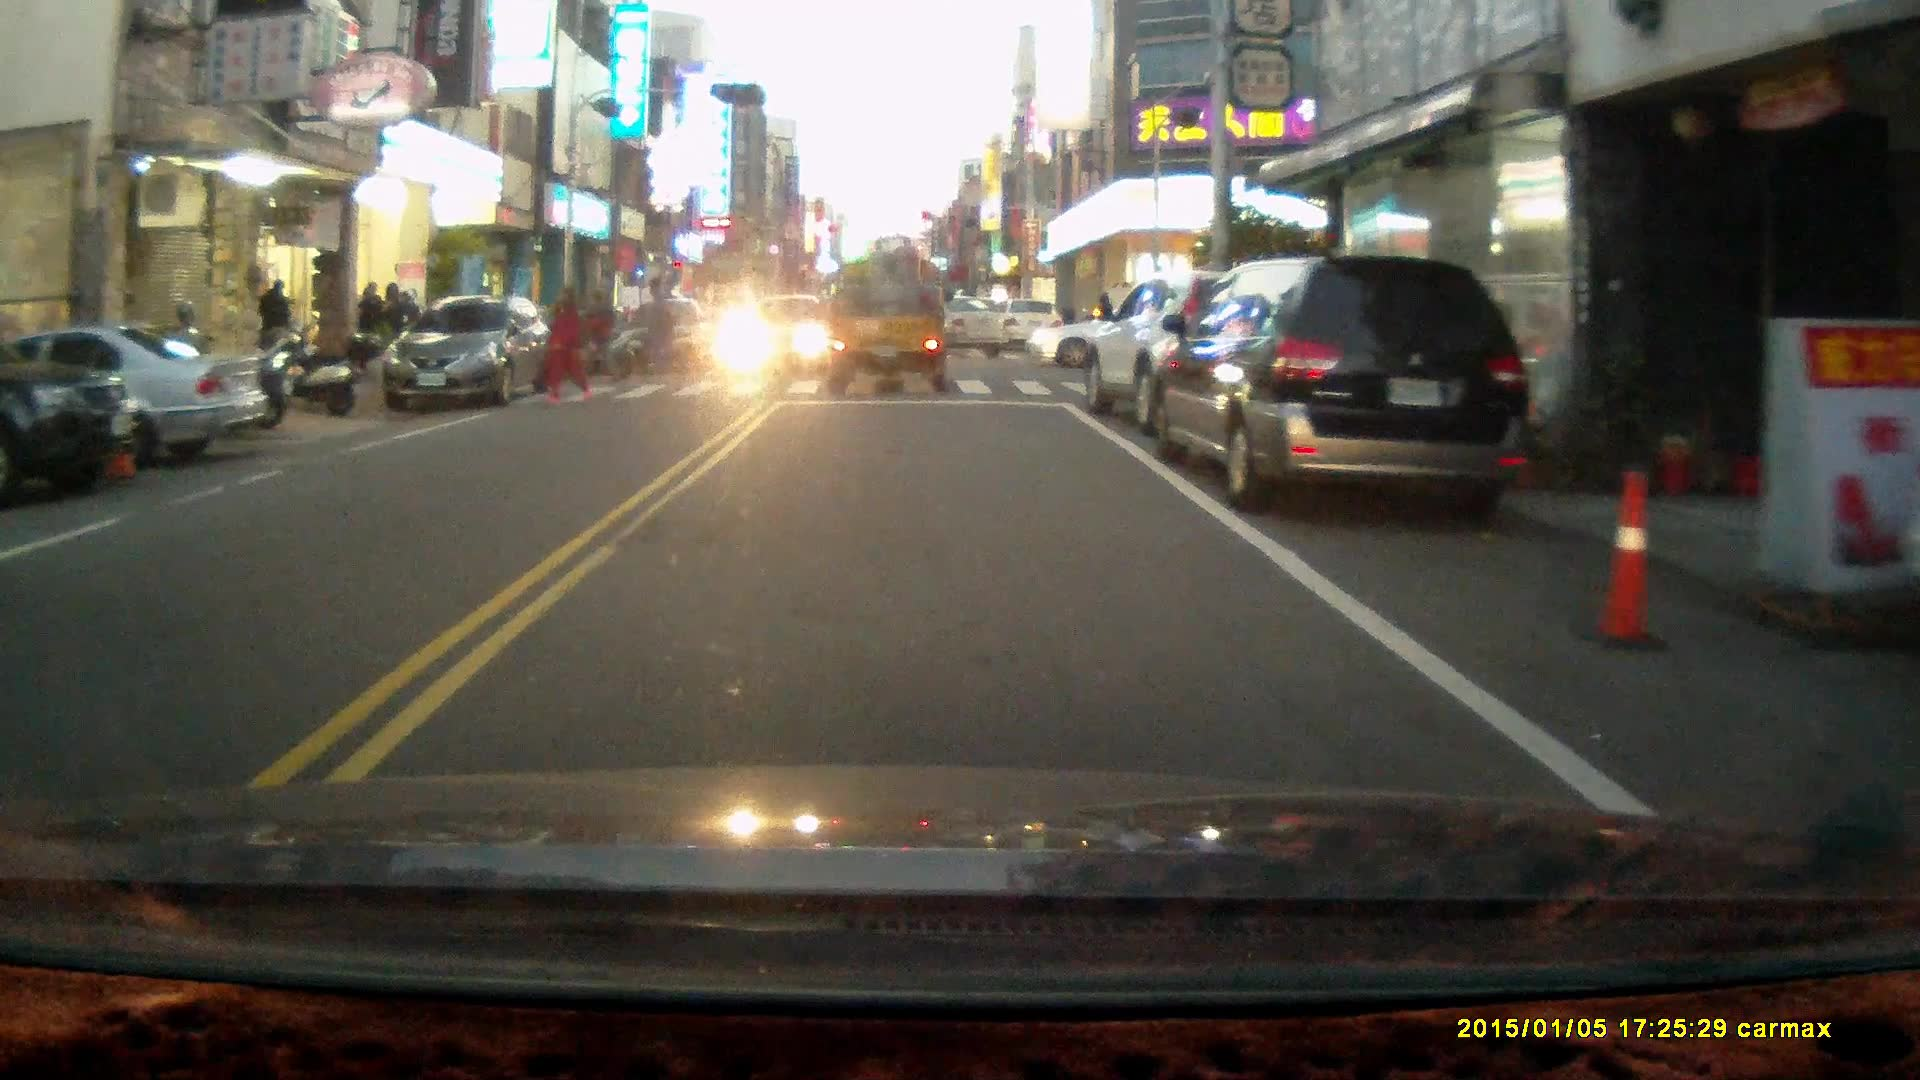pedestrian: (542, 286, 592, 408), (635, 275, 683, 378), (257, 275, 295, 369), (581, 288, 619, 376)
vehicle: (1152, 253, 1539, 515), (1079, 267, 1355, 437), (1, 322, 280, 473), (819, 231, 960, 393), (1, 340, 145, 492), (382, 294, 558, 410), (1028, 292, 1244, 375), (717, 286, 825, 364), (609, 296, 715, 374), (893, 298, 1011, 364)
